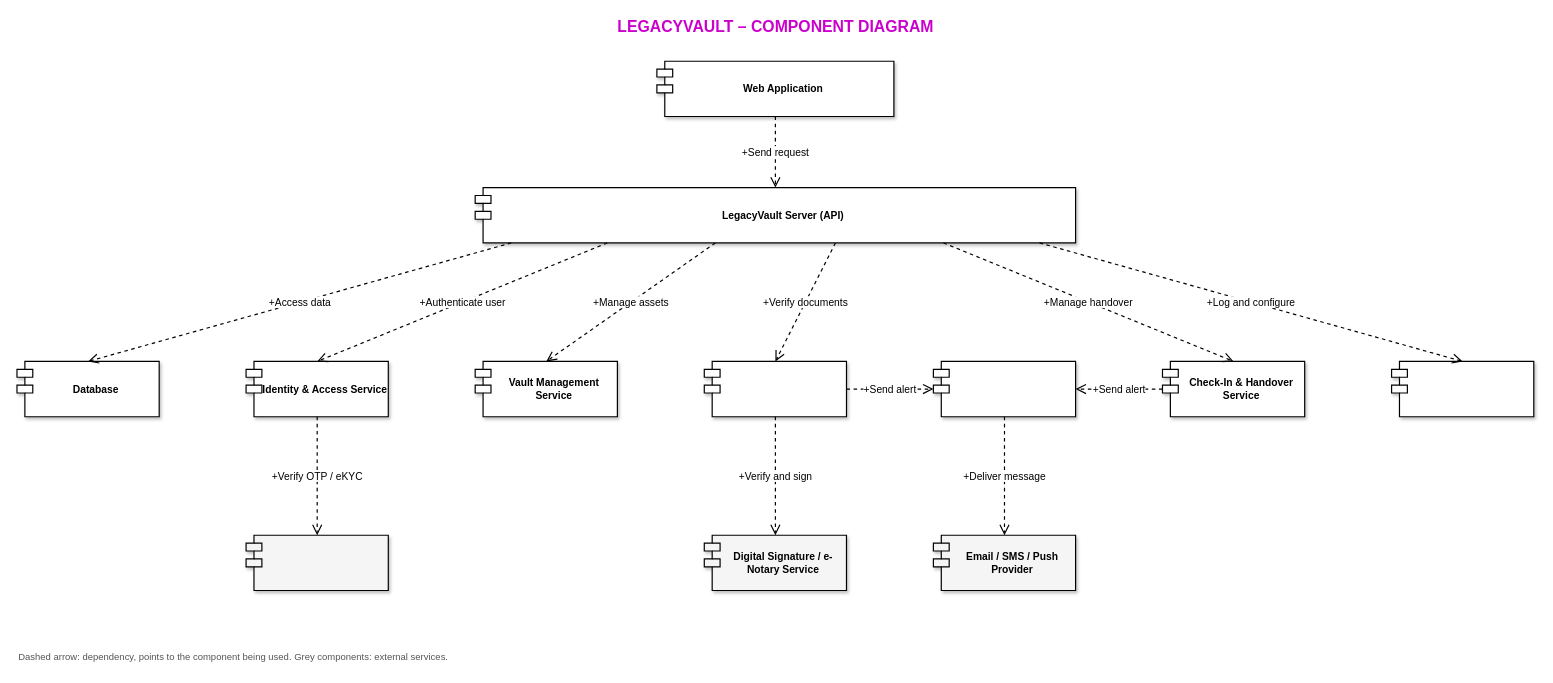
This 1553x683 diagram has some shape labels left out. Each missing label, with the centre of its shape:
"Audit & Administration Service" belongs at [1463,389].
"Legal Verification Service" belongs at [775,389].
"Notification Service" belongs at [1005,389].
"OTP / eKYC Provider" belongs at [317,563].
